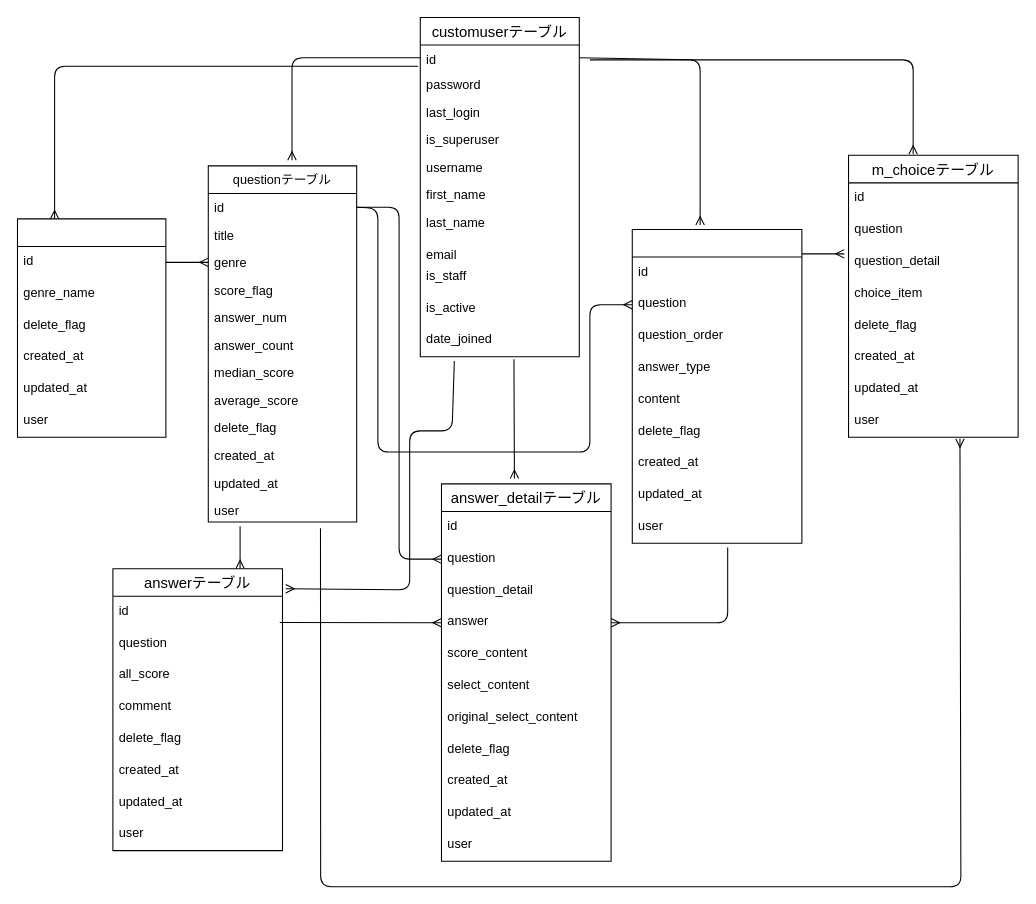
Image size: 1036x904. Some labels were removed from this diagram. Each missing label, with the box of its shape:
genreテーブル: (16, 218, 166, 437)
question_detailテーブル: (631, 228, 802, 543)
